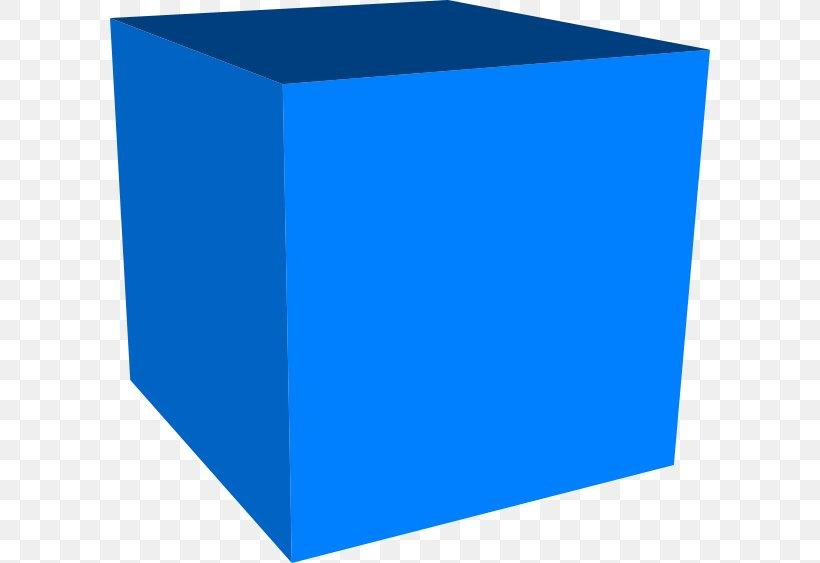cube: (99, 1, 706, 563)
